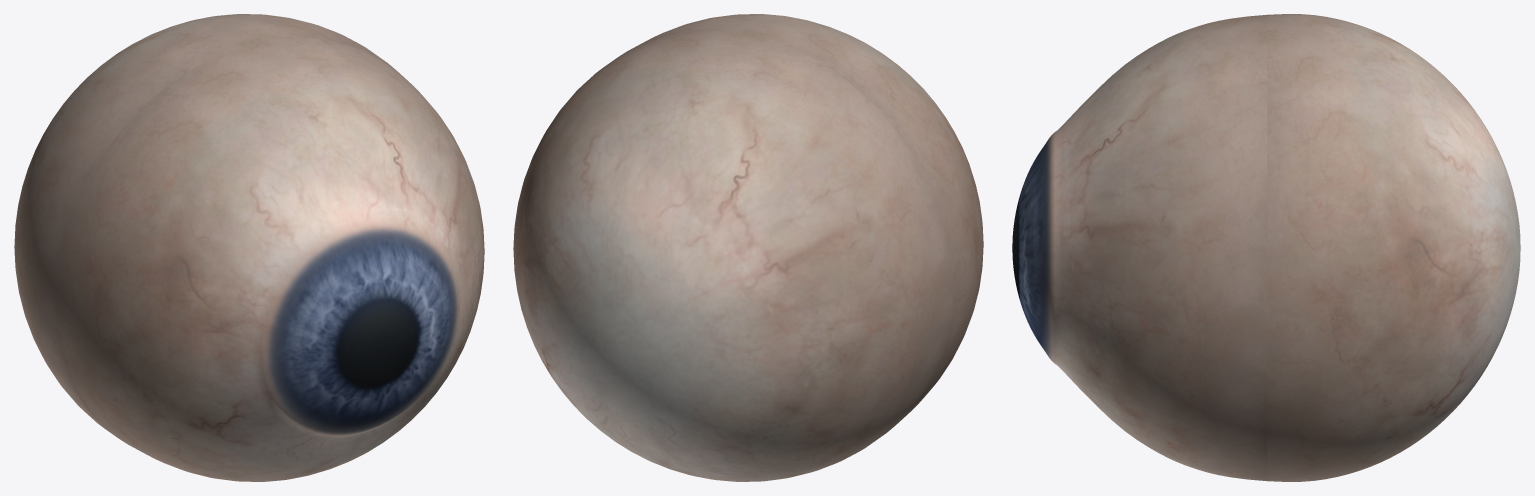
The picture shows the model from 3 angles, left to right: view 1: azimuth 30°, elevation 25°; view 2: azimuth 150°, elevation 25°; view 3: azimuth 270°, elevation 25°; orthographic projection.
Parts seen in each view (by area): view 1: Eyes_01; view 2: Eyes_01; view 3: Eyes_01.
Boxes of the visible parts, bbox=[...] form: Eyes_01: bbox=[14, 14, 484, 481]; Eyes_01: bbox=[513, 14, 983, 481]; Eyes_01: bbox=[1012, 14, 1520, 481].
Size of the model in its own units: 0.0362 by 0.0362 by 0.0393.
1 material, 1 textured.
